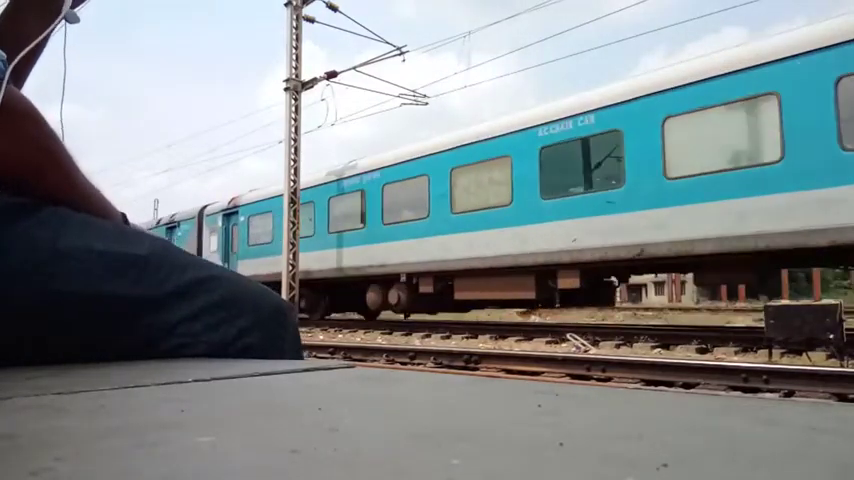Car Type: (527, 112, 605, 141)
